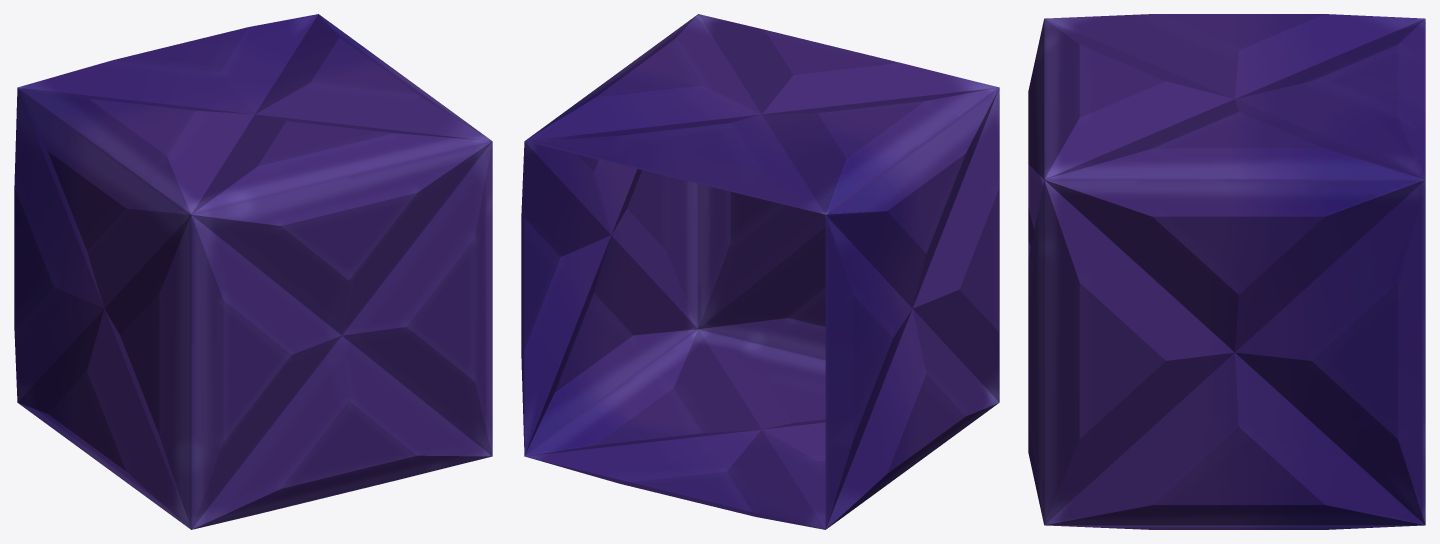
File: Wall_Contorted.obj
The picture shows the model from 3 angles, left to right: view 1: azimuth 30°, elevation 25°; view 2: azimuth 150°, elevation 25°; view 3: azimuth 270°, elevation 25°; orthographic projection. The views are drawn at different scales.
Visible parts, largest first — view 1: Cube; view 2: Cube; view 3: Cube.
Boxes of the visible parts, x1,y1,x2,y2 form: Cube: (14, 14, 492, 529); Cube: (521, 14, 999, 529); Cube: (1028, 14, 1425, 529).
Bounding box in the file's own units: 1.5 × 1.5 × 1.42.
